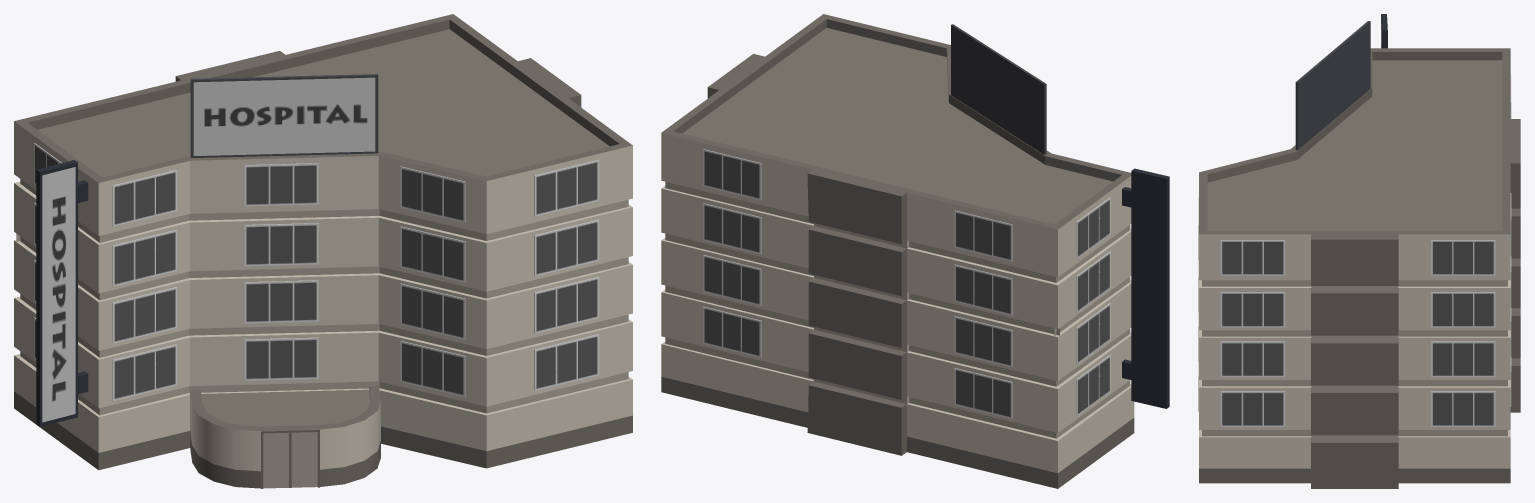
File: hospital01_color01.fbx
3 renders of one model, left to right at view 1: azimuth 30°, elevation 25°; view 2: azimuth 150°, elevation 25°; view 3: azimuth 270°, elevation 25°, orthographic. The views are drawn at different scales.
Parts seen in each view (by area): view 1: hospital01_color01; view 2: hospital01_color01; view 3: hospital01_color01.
Part boxes in pixels (x1,y1,x2,y2): hospital01_color01: [14, 14, 632, 488]; hospital01_color01: [661, 14, 1169, 488]; hospital01_color01: [1198, 14, 1520, 488].
Bounding box in the file's own units: 2739 × 1907 × 1758.
